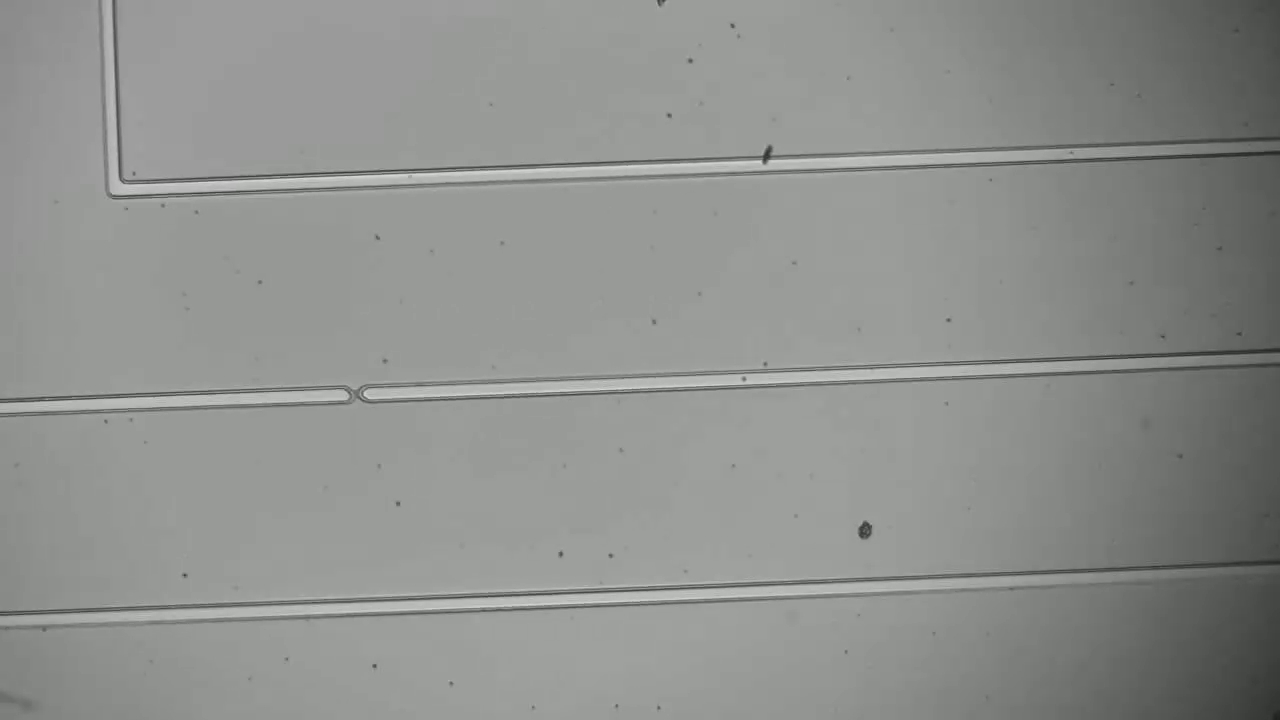open: (322, 368, 391, 417)
stains_enbedded: (743, 133, 790, 188)
